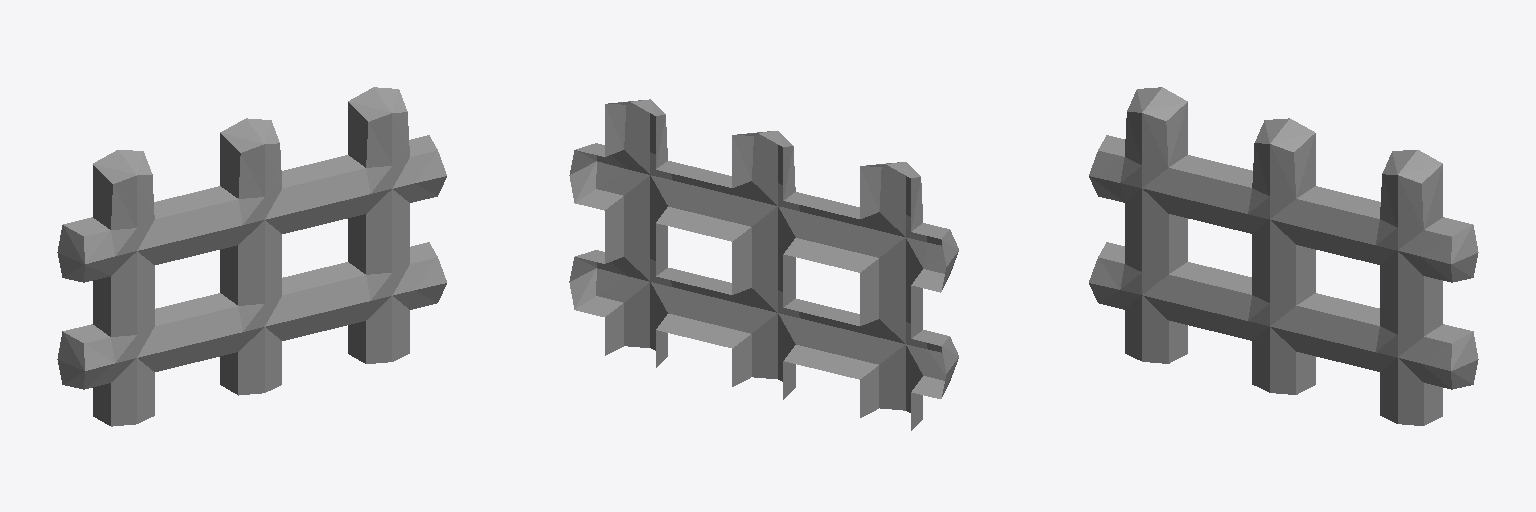
The model's file is zabor.obj.
3 renders of one model, left to right at view 1: azimuth 30°, elevation 25°; view 2: azimuth 150°, elevation 25°; view 3: azimuth 330°, elevation 25°, orthographic.
Parts seen in each view (by area): view 1: zabor_lo_Плоскость.010; view 2: zabor_lo_Плоскость.010; view 3: zabor_lo_Плоскость.010.
Boxes of the visible parts, x1,y1,x2,y2 form: zabor_lo_Плоскость.010: [57, 87, 446, 426]; zabor_lo_Плоскость.010: [569, 99, 958, 430]; zabor_lo_Плоскость.010: [1089, 87, 1478, 425].
Size of the model in its own units: 14.77 by 9.75 by 1.37.